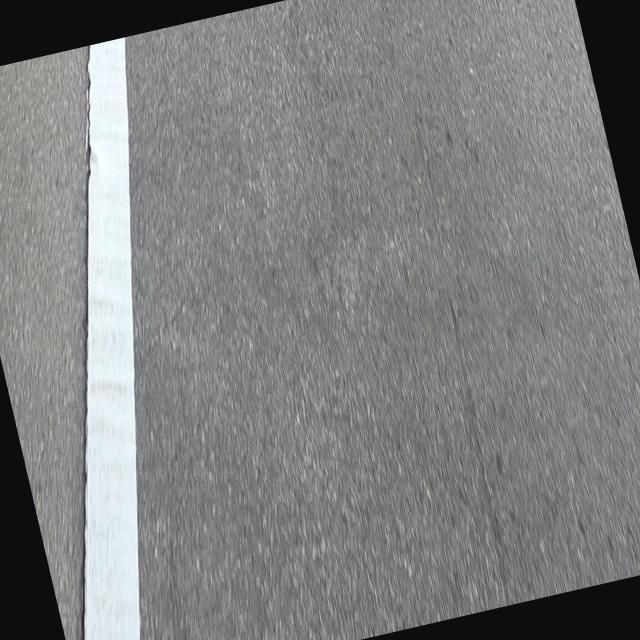Retak-Memanjang: (80, 44, 94, 640)
